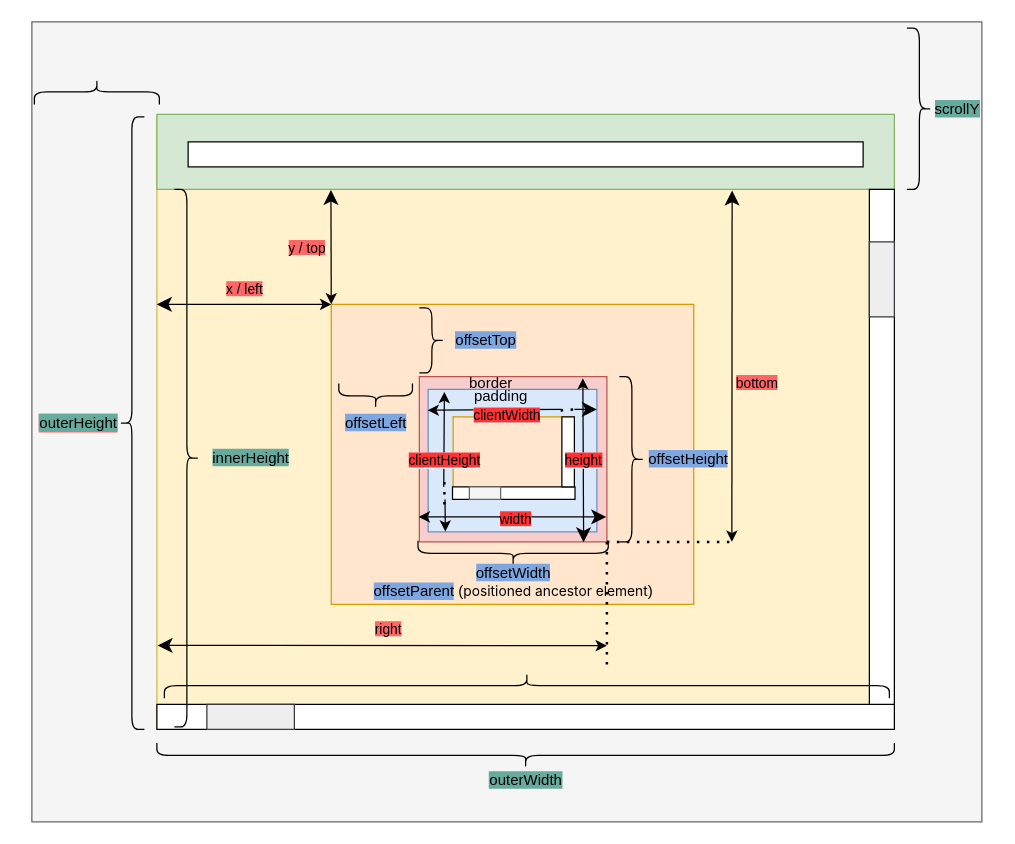
The diagram is 1015 pixels wide and 844 high, and some of its shapes have lost their labels. Each missing label, with the centre of its shape:
innerWidth: the point at 526,685
scrollX: the point at 96,91
